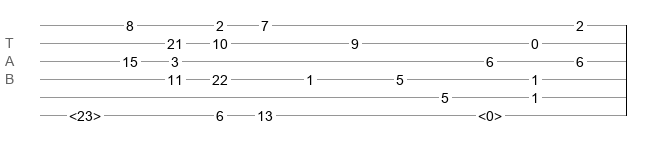0: (531, 36, 539, 46)
1: (306, 72, 314, 82), (531, 72, 539, 82), (531, 90, 539, 100)
10: (212, 36, 228, 46)
11: (167, 72, 183, 82)
13: (257, 108, 273, 118)
15: (122, 54, 138, 64)
2: (216, 18, 224, 28), (576, 18, 584, 28)
21: (167, 36, 183, 46)
22: (212, 72, 228, 82)
3: (171, 54, 179, 64)
5: (396, 72, 404, 82), (441, 90, 449, 100)
6: (216, 108, 224, 118), (486, 54, 494, 64), (576, 54, 584, 64)
7: (261, 18, 269, 28)
8: (126, 18, 134, 28)
9: (351, 36, 359, 46)
harmonic: (69, 108, 101, 118), (478, 108, 502, 118)
